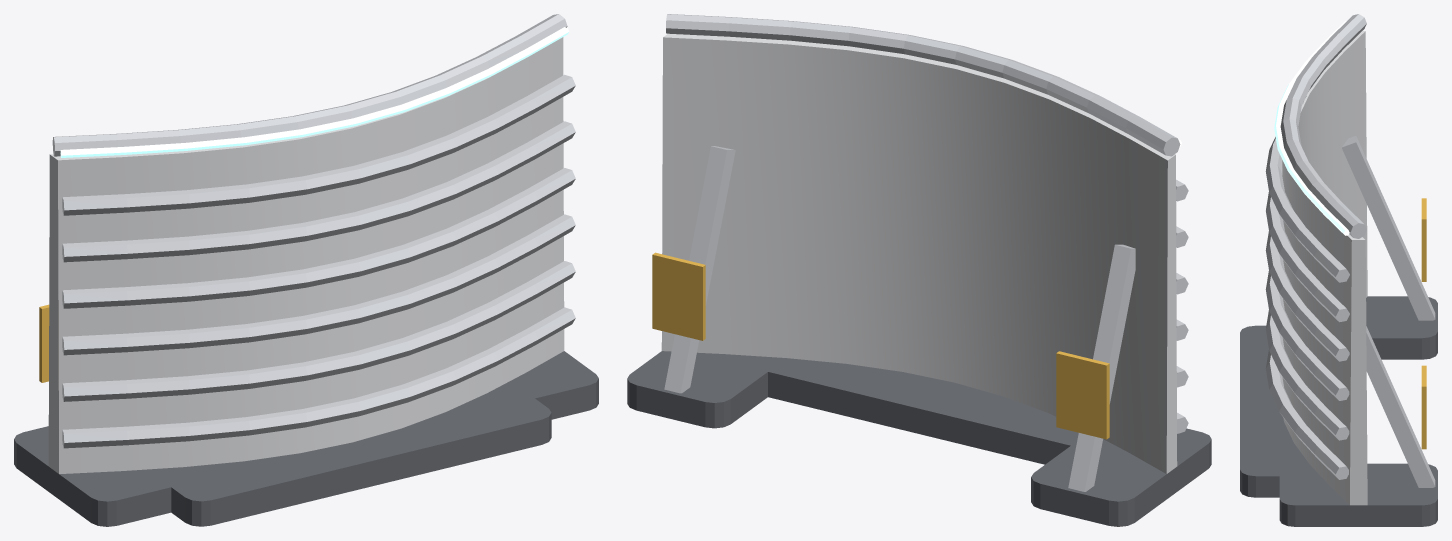
The model's file is hover-transit-and-antigrav-fleet-wind-baffle-75ffad68__17127.glb.
3 renders of one model, left to right at view 1: azimuth 30°, elevation 25°; view 2: azimuth 150°, elevation 25°; view 3: azimuth 270°, elevation 25°, orthographic. The views are drawn at different scales.
Visible parts, largest first — view 1: wind-baffle; view 2: wind-baffle; view 3: wind-baffle.
Boxes of the visible parts, box(x1,y1,x2,y2) form: wind-baffle: box(14, 14, 598, 526); wind-baffle: box(627, 14, 1211, 526); wind-baffle: box(1240, 14, 1437, 526).
Bounding box in the file's own units: 5.07 × 3.39 × 2.
